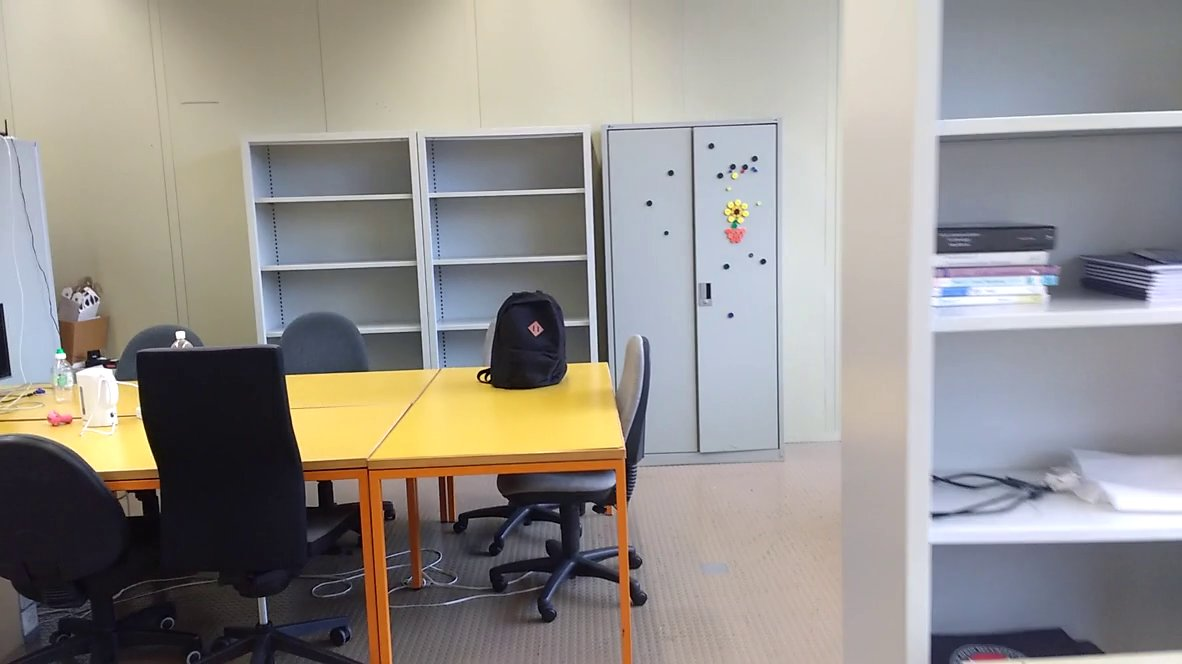bag: (476, 284, 573, 400)
chair: (128, 330, 382, 659), (498, 319, 656, 632), (1, 425, 179, 664), (261, 306, 385, 400)
